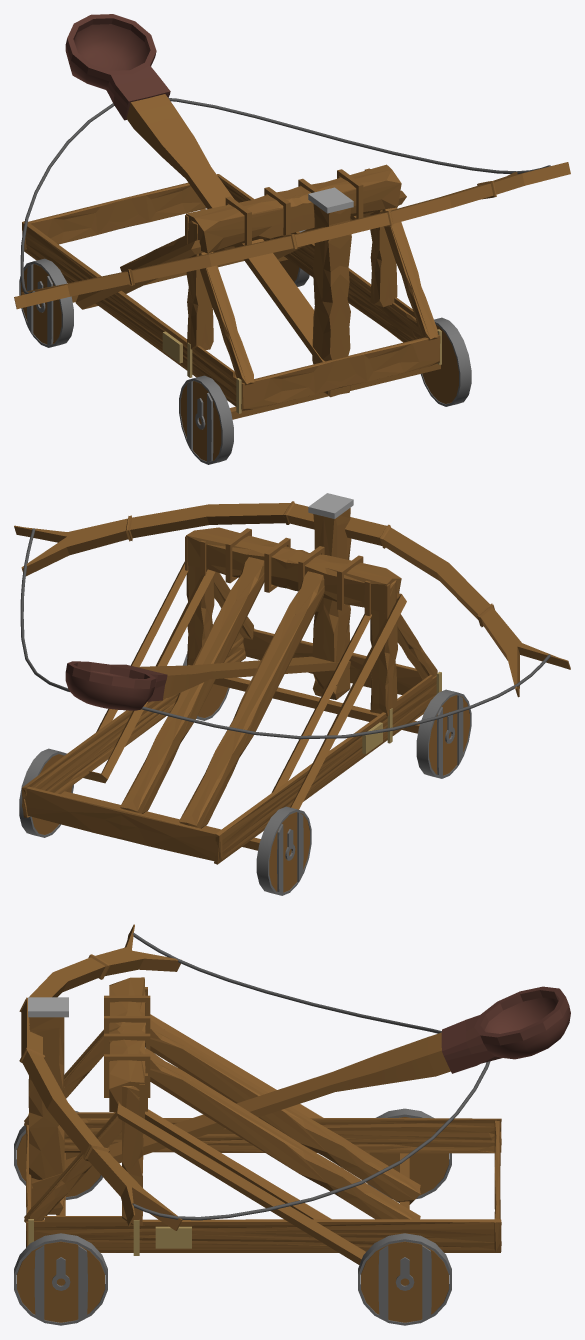
Rendered from SM_catapult_prop.fbx.
The picture shows the model from 3 angles, top to bottom: view 1: azimuth 30°, elevation 25°; view 2: azimuth 150°, elevation 25°; view 3: azimuth 270°, elevation 25°; orthographic projection. The views are drawn at different scales.
Visible parts, largest first — view 1: catapult_prop; view 2: catapult_prop; view 3: catapult_prop.
Boxes of the visible parts, x1,y1,x2,y2 form: catapult_prop: [14, 14, 570, 464]; catapult_prop: [14, 493, 570, 895]; catapult_prop: [14, 924, 570, 1325].
Bounding box in the file's own units: 463 × 196 × 375.
